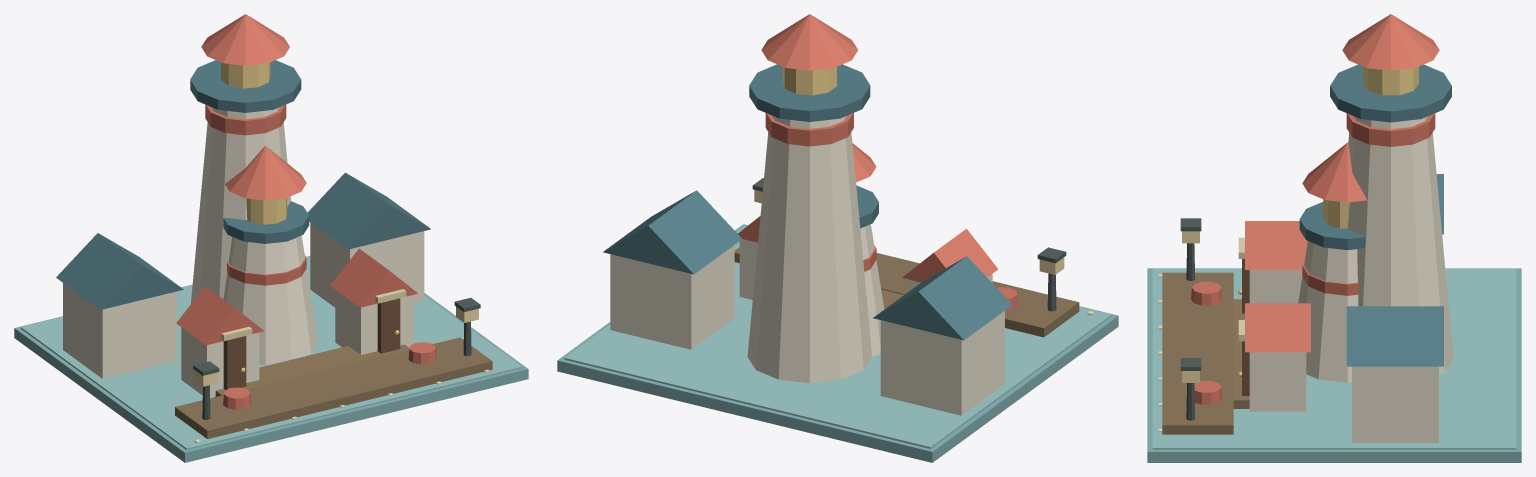
Rendered from tower-lv3.obj.
3 views of the same model, side by side, from view 1: azimuth 30°, elevation 25°; view 2: azimuth 150°, elevation 25°; view 3: azimuth 270°, elevation 25° (orthographic). The views are drawn at different scales.
Visible parts, largest first — view 1: tower_3, tower_5, tower_4, tower_1, tower_13, tower_0, tower_9, tower_8, tower_12, tower_14, tower_6, tower_10 (+1 smaller); view 2: tower_3, tower_1, tower_5, tower_4, tower_0, tower_13, tower_12, tower_14; view 3: tower_3, tower_1, tower_4, tower_5, tower_13, tower_0, tower_12, tower_14, tower_8, tower_9, tower_6, tower_15.
Part boxes in pixels (left/top/right/bottom): tower_3: left=63, top=107, right=424, bottom=397; tower_5: left=56, top=60, right=430, bottom=309; tower_4: left=176, top=14, right=436, bottom=409; tower_1: left=21, top=256, right=521, bottom=449; tower_13: left=175, top=337, right=492, bottom=438; tower_0: left=14, top=256, right=528, bottom=462; tower_9: left=223, top=298, right=400, bottom=389; tower_8: left=214, top=344, right=409, bottom=397; tower_12: left=221, top=62, right=270, bottom=88; tower_14: left=193, top=297, right=480, bottom=419; tower_6: left=246, top=198, right=287, bottom=224; tower_10: left=221, top=289, right=406, bottom=340; tower_3: left=610, top=115, right=1004, bottom=415; tower_1: left=564, top=225, right=1111, bottom=448; tower_5: left=603, top=64, right=1012, bottom=340; tower_4: left=738, top=14, right=1018, bottom=311; tower_0: left=557, top=224, right=1118, bottom=462; tower_13: left=734, top=247, right=1079, bottom=337; tower_12: left=782, top=67, right=836, bottom=95; tower_14: left=752, top=178, right=1066, bottom=311; tower_3: left=1249, top=116, right=1453, bottom=442; tower_1: left=1152, top=268, right=1516, bottom=449; tower_4: left=1191, top=14, right=1439, bottom=404; tower_5: left=1299, top=64, right=1451, bottom=366; tower_13: left=1162, top=272, right=1233, bottom=434; tower_0: left=1147, top=268, right=1521, bottom=462; tower_12: left=1363, top=66, right=1418, bottom=95; tower_14: left=1180, top=218, right=1201, bottom=420; tower_8: left=1233, top=299, right=1249, bottom=408; tower_9: left=1242, top=259, right=1249, bottom=395; tower_6: left=1323, top=199, right=1349, bottom=228; tower_15: left=1182, top=231, right=1199, bottom=382.
Size of the model in its own units: 5 by 4.53 by 4.3.
